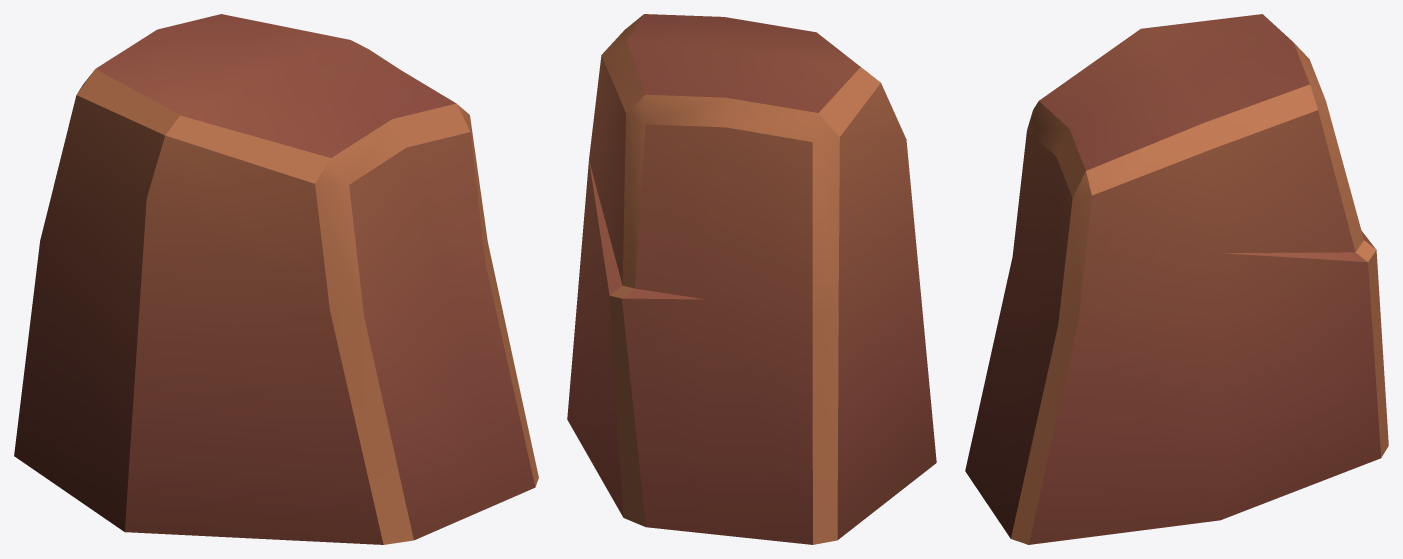
The model's file is Rock-2-1.fbx.
The picture shows the model from 3 angles, left to right: view 1: azimuth 30°, elevation 25°; view 2: azimuth 150°, elevation 25°; view 3: azimuth 270°, elevation 25°; orthographic projection. The views are drawn at different scales.
Visible parts, largest first — view 1: Rock-2-1; view 2: Rock-2-1; view 3: Rock-2-1.
Part boxes in pixels (left/top/right/bottom): Rock-2-1: left=14, top=14, right=538, bottom=544; Rock-2-1: left=567, top=14, right=936, bottom=544; Rock-2-1: left=965, top=14, right=1388, bottom=544.
Bounding box in the file's own units: 177 × 185 × 183.
